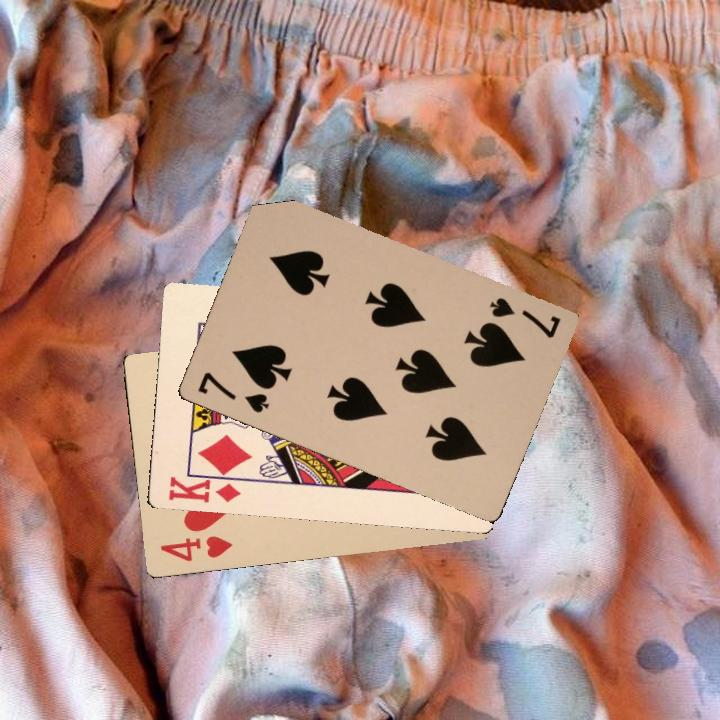4h: (156, 531, 235, 564)
7s: (193, 367, 272, 416), (485, 293, 563, 341)
Kd: (164, 466, 242, 506)
